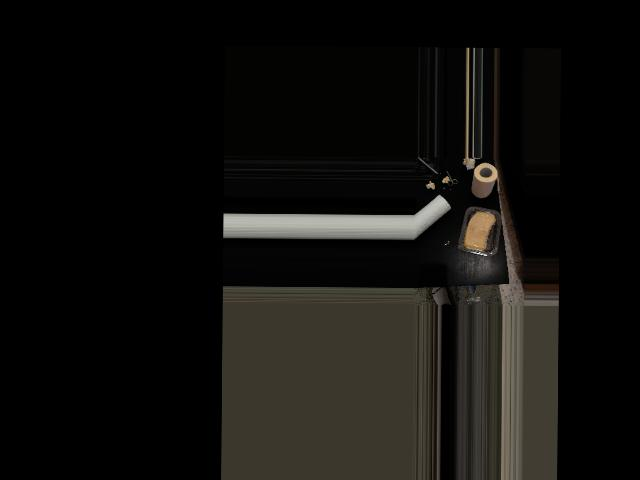cheese: (459, 206, 498, 256)
